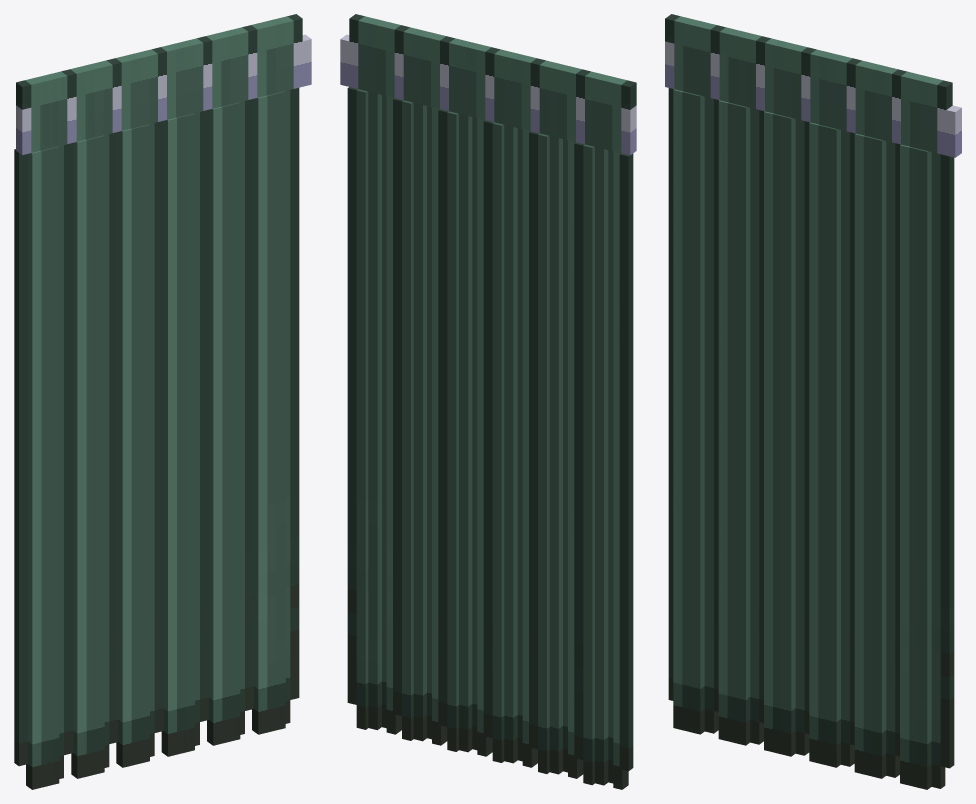
The model's file is CMU3DShowerCurtain.glb.
The picture shows the model from 3 angles, left to right: view 1: azimuth 30°, elevation 25°; view 2: azimuth 150°, elevation 25°; view 3: azimuth 330°, elevation 25°; orthographic projection.
Visible parts, largest first — view 1: Folded fabric section 1:3-31, Folded fabric section 6:3-31, Folded fabric section 11:3-31, Folded fabric section 21:3-31, Folded fabric section 26:3-31, Folded fabric section 16:3-31, Folded fabric section 0:3-30, Folded fabric section 2:3-31, Folded fabric section 13:3-31, Folded fabric section 7:3-31, Folded fabric section 12:3-31, Folded fabric section 22:3-31 (+50 smaller); view 2: Folded fabric section 0:3-30, Folded fabric section 8:3-31, Folded fabric section 13:3-31, Folded fabric section 23:3-31, Folded fabric section 18:3-31, Folded fabric section 28:3-31, Folded fabric section 3:3-31, Folded fabric section 14:3-31, Folded fabric section 29:3-31, Folded fabric section 4:3-31, Folded fabric section 19:3-31, Folded fabric section 9:3-31 (+50 smaller); view 3: Folded fabric section 8:3-31, Folded fabric section 30:3-30, Folded fabric section 3:3-31, Folded fabric section 18:3-31, Folded fabric section 28:3-31, Folded fabric section 23:3-31, Folded fabric section 13:3-31, Folded fabric section 4:3-31, Folded fabric section 14:3-31, Folded fabric section 29:3-31, Folded fabric section 9:3-31, Folded fabric section 24:3-31 (+51 smaller).
Part boxes in pixels (x1,y1,x2,y2): Folded fabric section 1:3-31: [26, 151, 41, 789]; Folded fabric section 6:3-31: [71, 140, 86, 778]; Folded fabric section 11:3-31: [116, 129, 131, 767]; Folded fabric section 21:3-31: [207, 107, 222, 745]; Folded fabric section 26:3-31: [252, 95, 267, 734]; Folded fabric section 16:3-31: [161, 118, 176, 756]; Folded fabric section 0:3-30: [14, 149, 27, 766]; Folded fabric section 2:3-31: [40, 148, 50, 787]; Folded fabric section 13:3-31: [140, 124, 149, 763]; Folded fabric section 7:3-31: [86, 137, 95, 776]; Folded fabric section 12:3-31: [131, 126, 140, 765]; Folded fabric section 22:3-31: [221, 104, 231, 743]; Folded fabric section 0:3-30: [619, 153, 633, 771]; Folded fabric section 8:3-31: [549, 136, 562, 774]; Folded fabric section 13:3-31: [504, 125, 517, 763]; Folded fabric section 23:3-31: [413, 103, 426, 741]; Folded fabric section 18:3-31: [459, 113, 472, 752]; Folded fabric section 28:3-31: [368, 91, 381, 730]; Folded fabric section 3:3-31: [595, 147, 608, 785]; Folded fabric section 14:3-31: [492, 122, 504, 762]; Folded fabric section 29:3-31: [356, 89, 368, 729]; Folded fabric section 4:3-31: [583, 144, 594, 785]; Folded fabric section 19:3-31: [447, 111, 458, 751]; Folded fabric section 9:3-31: [538, 133, 549, 773]; Folded fabric section 8:3-31: [736, 105, 750, 745]; Folded fabric section 30:3-30: [940, 154, 954, 768]; Folded fabric section 3:3-31: [691, 93, 704, 734]; Folded fabric section 18:3-31: [827, 127, 840, 767]; Folded fabric section 28:3-31: [918, 149, 931, 789]; Folded fabric section 23:3-31: [873, 138, 886, 778]; Folded fabric section 13:3-31: [782, 116, 795, 756]; Folded fabric section 4:3-31: [704, 97, 718, 733]; Folded fabric section 14:3-31: [795, 119, 809, 755]; Folded fabric section 29:3-31: [931, 152, 945, 788]; Folded fabric section 9:3-31: [750, 108, 763, 744]; Folded fabric section 24:3-31: [886, 141, 899, 777].
Size of the model in its own units: 1 by 2.33 by 0.0536.
28 materials, 28 textured.
